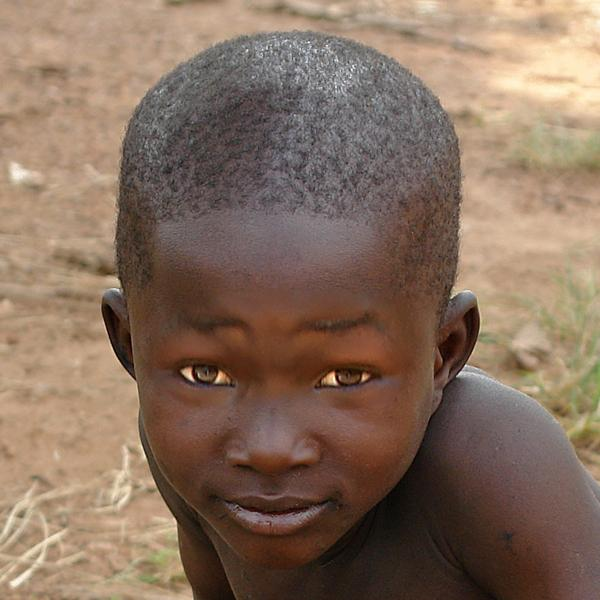Eyes: (303, 345, 384, 401), (169, 348, 241, 396)
